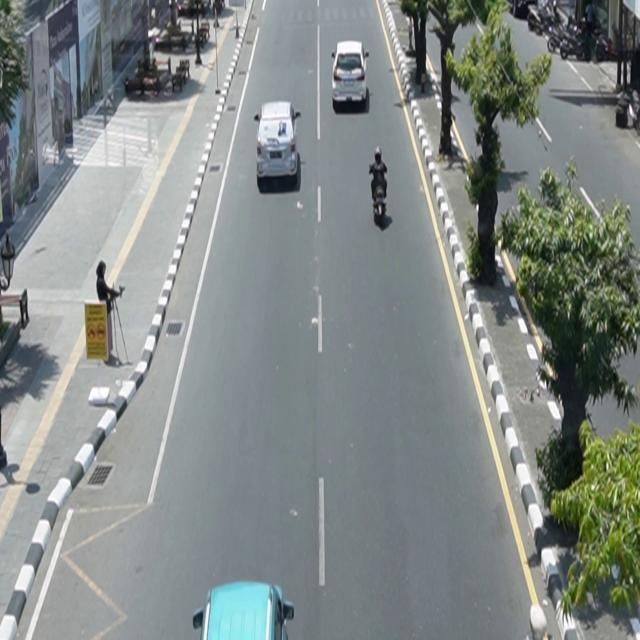car: (193, 581, 295, 640), (254, 101, 302, 182), (332, 40, 370, 106)
